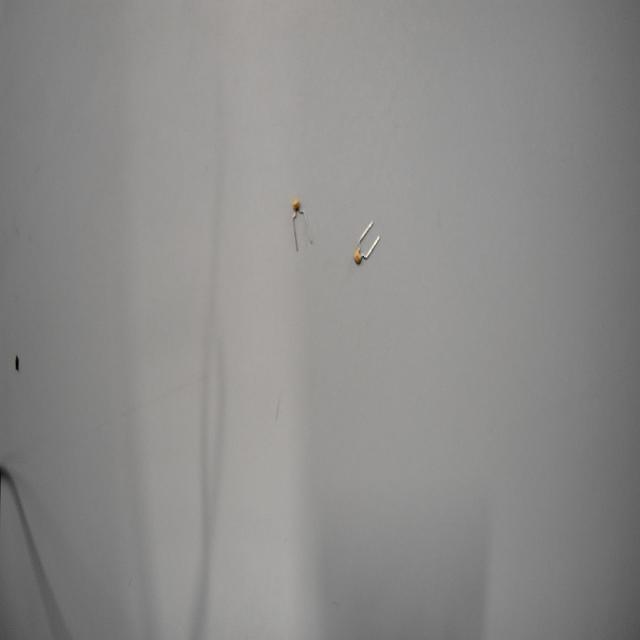capacitor: (346, 208, 392, 290), (287, 194, 322, 256)
